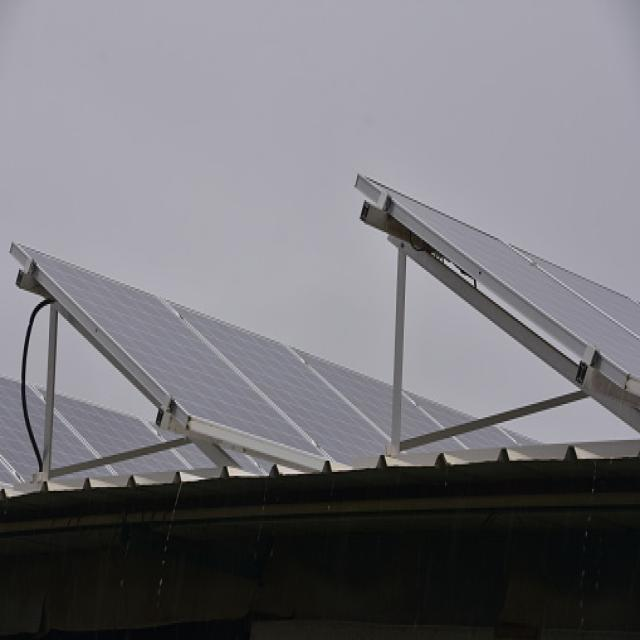dust-solar-panel: (15, 246, 544, 467), (369, 181, 640, 385)
